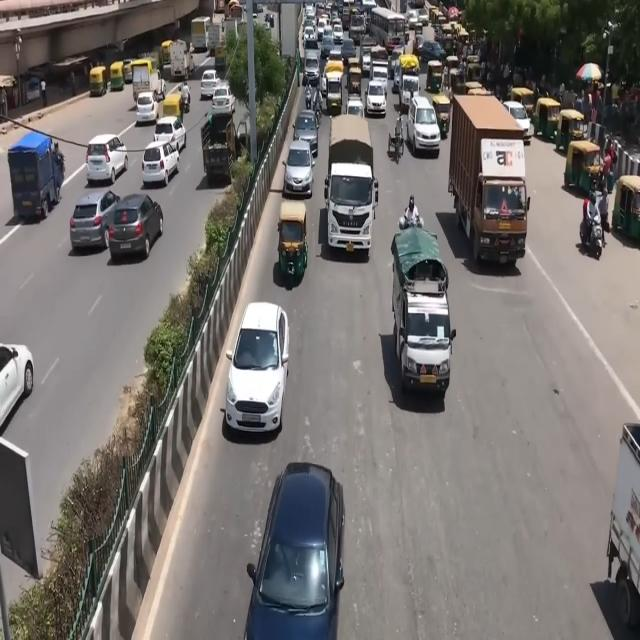auto: (448, 90, 526, 264), (276, 199, 310, 281), (564, 137, 602, 195), (612, 174, 640, 243), (555, 107, 587, 155), (534, 96, 562, 143), (431, 94, 452, 142), (162, 94, 183, 124), (426, 59, 444, 94), (89, 66, 107, 98), (447, 67, 465, 96), (110, 61, 126, 92), (347, 64, 362, 94), (465, 59, 482, 85), (161, 40, 174, 68), (214, 44, 226, 70)
bike-auto: (580, 201, 604, 259), (400, 72, 421, 114), (400, 195, 422, 229), (586, 191, 600, 231), (597, 188, 609, 234), (394, 109, 404, 150), (361, 51, 372, 76), (304, 80, 312, 110)
